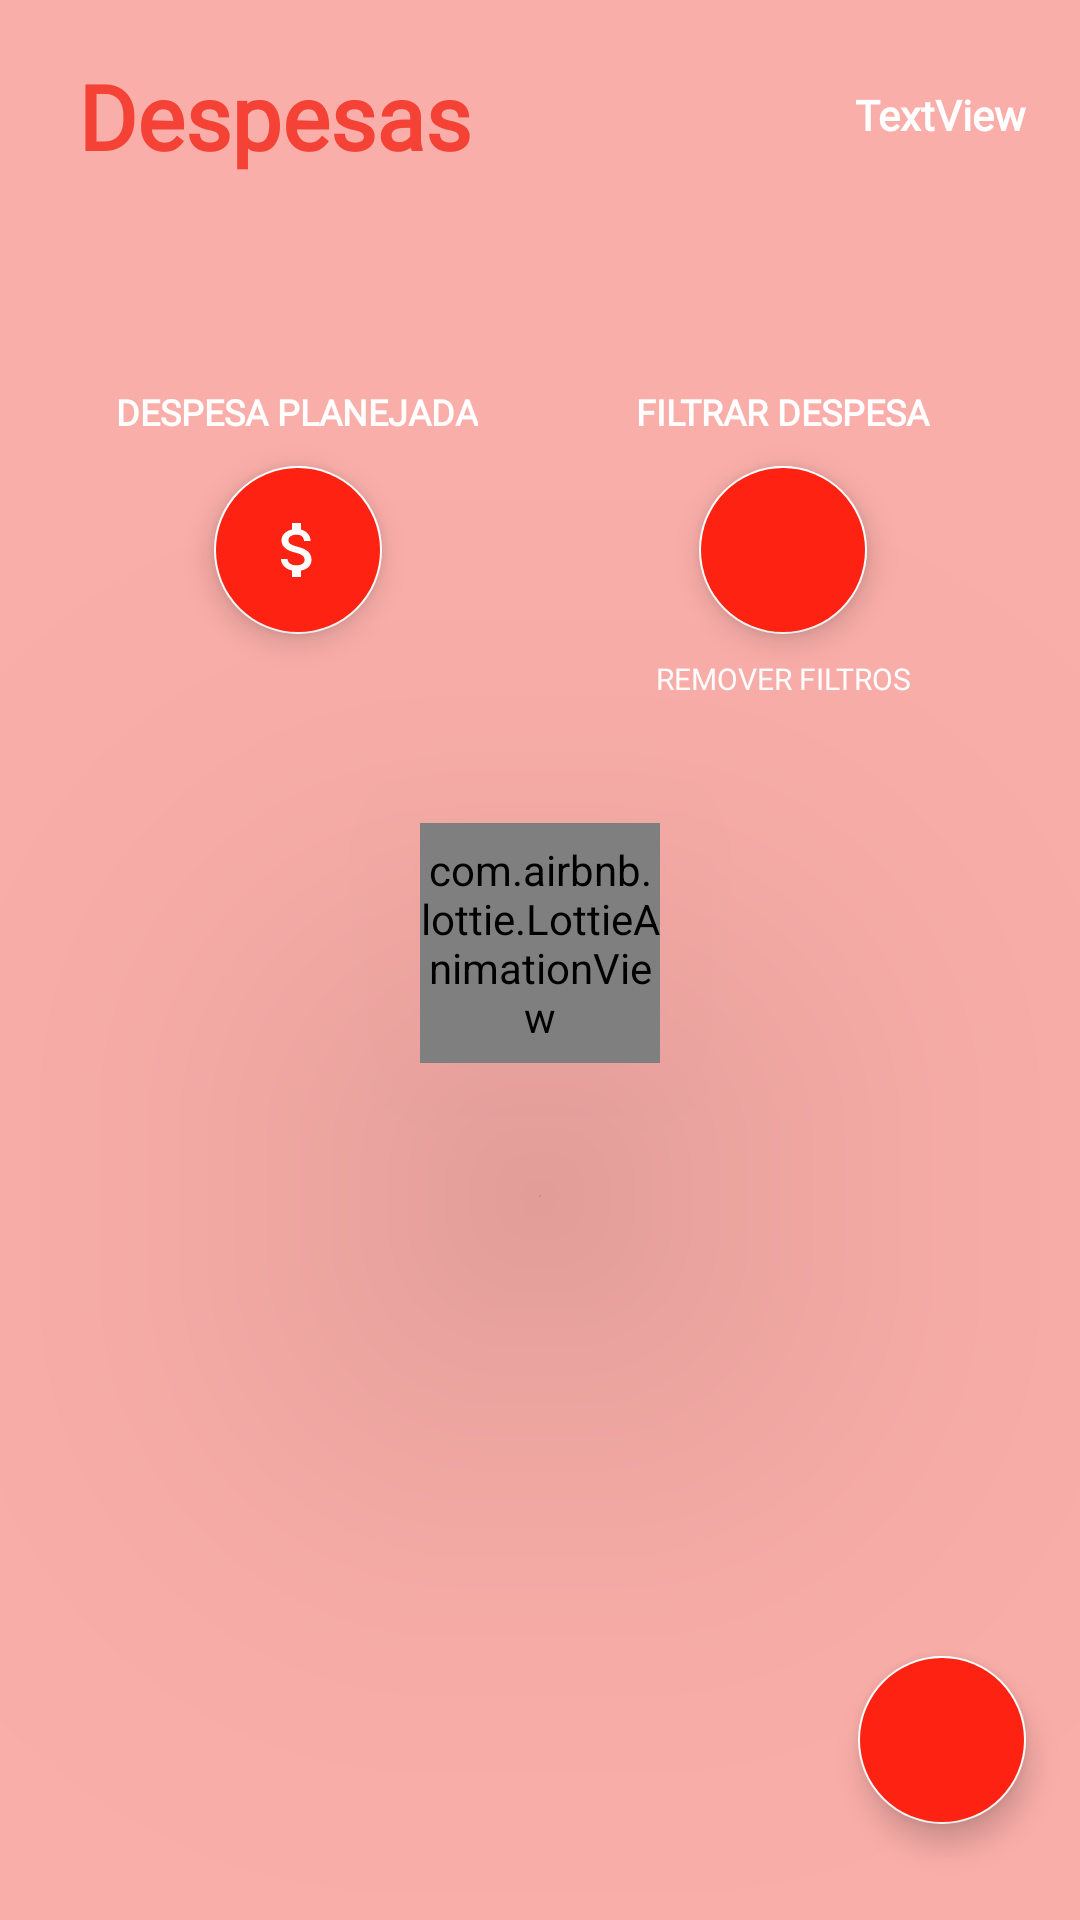

Icon bounding boxes for this 1080 × 1920 phone screenshot, format (x1, y1, x2, y2):
spend: (214, 466, 382, 634)
